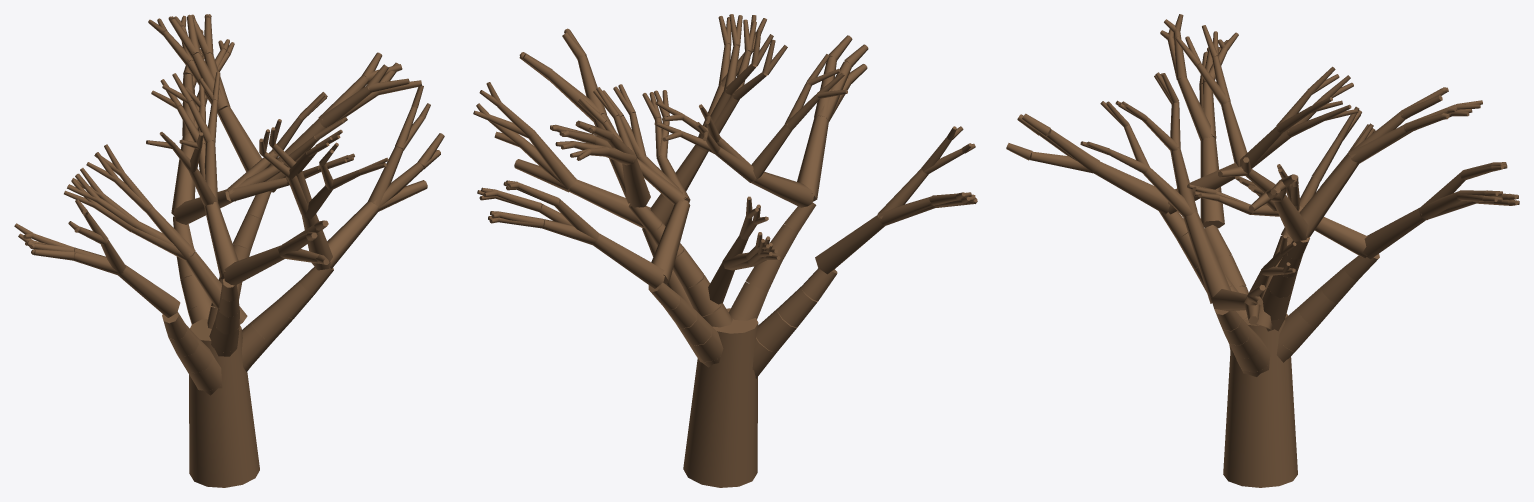
The model's file is naspolya-tel.glb.
The picture shows the model from 3 angles, left to right: view 1: azimuth 30°, elevation 25°; view 2: azimuth 150°, elevation 25°; view 3: azimuth 270°, elevation 25°; orthographic projection. The views are drawn at different scales.
Visible parts, largest first — view 1: torzs, gally-9-2 (×3), gally-7-1, gally-9-1, gally-4-1, gally-6-1, gally-1-1, gally-7-2 (×2), gally-5-1, gally-8-1, ag-2-3, gally-2-1 (+16 smaller); view 2: torzs, gally-2-1, gally-1-1, gally-8-1, gally-4-1, gally-9-2 (×2), gally-4-2 (×2), gally-0-2 (×2), gally-7-2 (×2), gally-9-1, gally-7-1, gally-8-2 (×2) (+15 smaller); view 3: torzs, gally-3-1, gally-6-1, gally-3-2 (×2), gally-1-1, gally-1-2 (×2), gally-4-1, gally-8-1, gally-2-1, ag-3-2, gally-4-2, gally-0-1 (+8 smaller).
Part boxes in pixels (<box>): torzs: <box>189,319,259,487</box>; gally-9-2 (×3): <box>367,146,427,211</box>; gally-7-1: <box>204,201,238,279</box>; gally-9-1: <box>327,202,379,268</box>; gally-4-1: <box>118,265,180,317</box>; gally-6-1: <box>217,106,261,171</box>; gally-1-1: <box>222,245,284,285</box>; gally-7-2 (×2): <box>188,141,218,206</box>; gally-5-1: <box>185,251,247,324</box>; gally-8-1: <box>171,134,195,215</box>; ag-2-3: <box>251,301,292,343</box>; gally-2-1: <box>173,189,232,224</box>; torzs: <box>683,308,758,487</box>; gally-2-1: <box>651,200,690,283</box>; gally-1-1: <box>797,116,828,201</box>; gally-8-1: <box>593,233,664,288</box>; gally-4-1: <box>815,215,884,274</box>; gally-9-2 (×2): <box>514,131,576,192</box>; gally-4-2 (×2): <box>877,168,932,224</box>; gally-0-2 (×2): <box>547,55,606,120</box>; gally-7-2 (×2): <box>715,124,792,182</box>; gally-9-1: <box>569,179,650,228</box>; gally-7-1: <box>751,172,814,207</box>; gally-8-2 (×2): <box>542,199,599,244</box>; torzs: <box>1223,313,1297,487</box>; gally-3-1: <box>1183,211,1231,303</box>; gally-6-1: <box>1299,153,1358,237</box>; gally-3-2 (×2): <box>1142,148,1197,217</box>; gally-1-1: <box>1094,162,1169,214</box>; gally-1-2 (×2): <box>1029,129,1100,173</box>; gally-4-1: <box>1200,136,1224,228</box>; gally-8-1: <box>1362,208,1425,259</box>; gally-2-1: <box>1298,206,1367,258</box>; ag-3-2: <box>1278,308,1317,351</box>; gally-4-2: <box>1177,77,1215,140</box>; gally-0-1: <box>1273,195,1308,241</box>.
Bounding box in the file's own units: 4.87 × 4.06 × 4.63.
